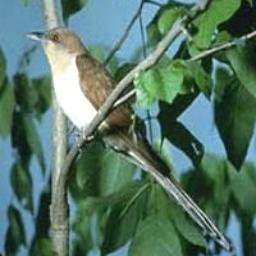Cuckoo: (20, 22, 237, 256)
